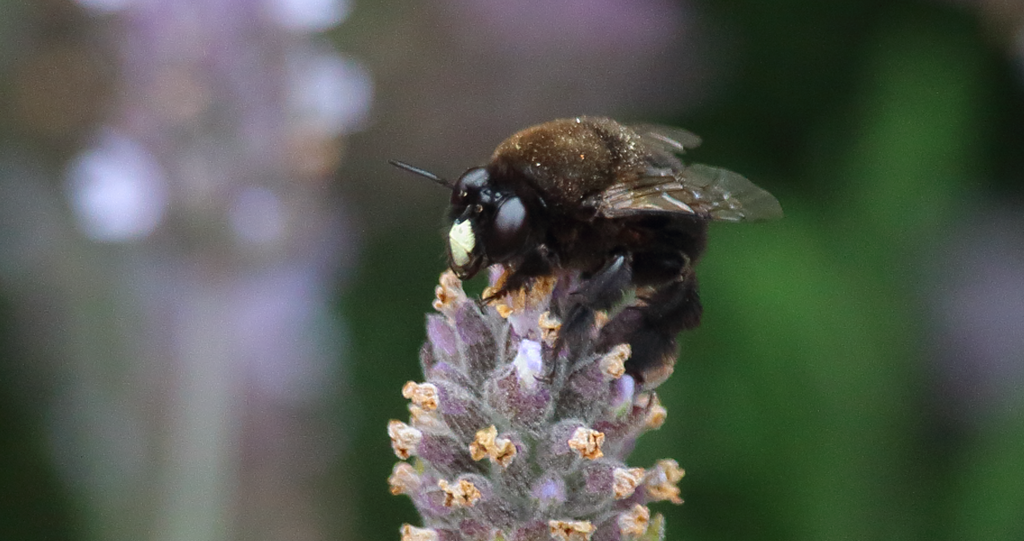not_bumblebee: (386, 115, 785, 383)
